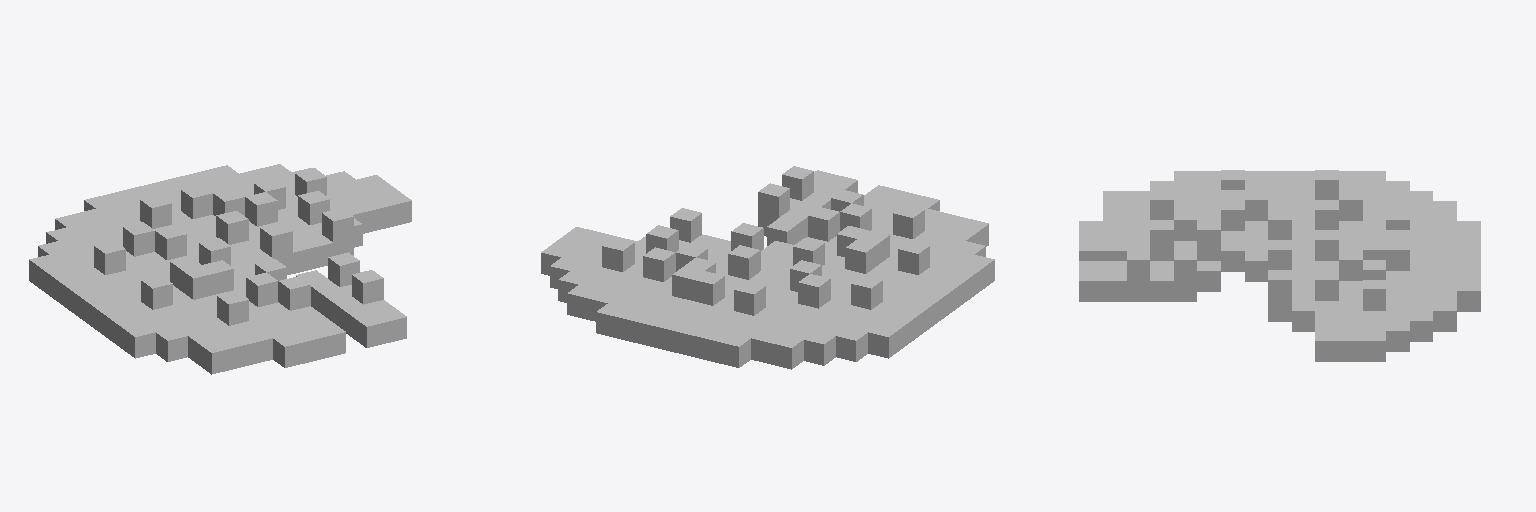
File: pizza0b.obj
3 views of the same model, side by side, from view 1: azimuth 30°, elevation 25°; view 2: azimuth 150°, elevation 25°; view 3: azimuth 270°, elevation 25° (orthographic).
Bounding box in the file's own units: 0.85 × 0.1 × 0.85.